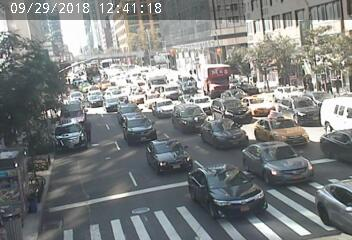car: (188, 168, 254, 208), (246, 146, 303, 185), (255, 115, 311, 147), (141, 138, 188, 169), (205, 119, 247, 150), (274, 92, 317, 118), (321, 180, 352, 209), (121, 113, 155, 137), (212, 96, 247, 119), (172, 104, 204, 128), (325, 132, 352, 159), (55, 126, 94, 144), (322, 97, 352, 120), (61, 106, 95, 126), (238, 94, 271, 113), (146, 95, 173, 118), (145, 66, 173, 87), (177, 76, 199, 92), (118, 104, 145, 116), (274, 82, 297, 96), (126, 88, 147, 103), (224, 84, 245, 98), (188, 95, 210, 108), (104, 95, 123, 108), (84, 95, 100, 105), (71, 90, 86, 100), (165, 87, 178, 95)
